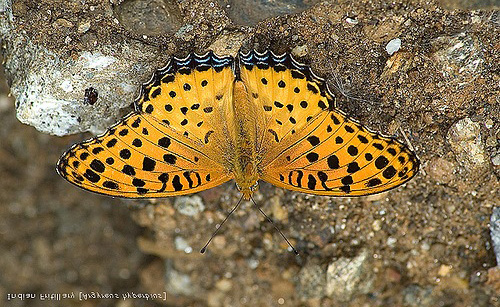Argyreus hyperbius: (51, 43, 420, 260)
butterfly: (53, 45, 422, 262)
